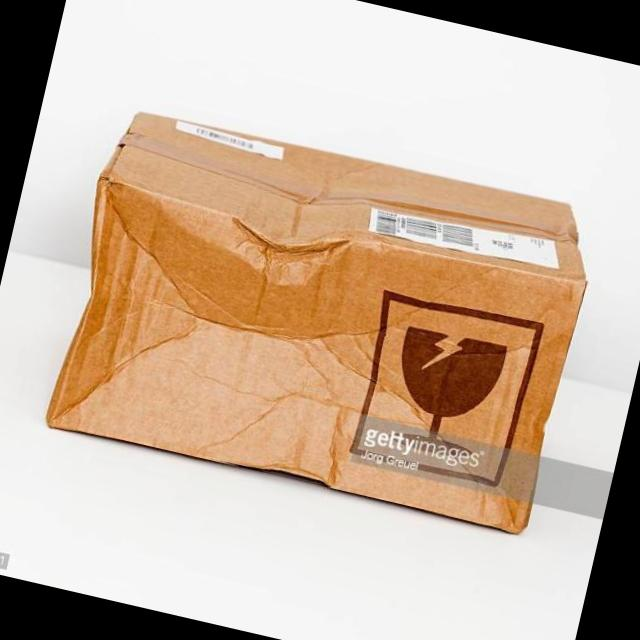box: (2, 51, 554, 540)
opened: (2, 52, 552, 337)
